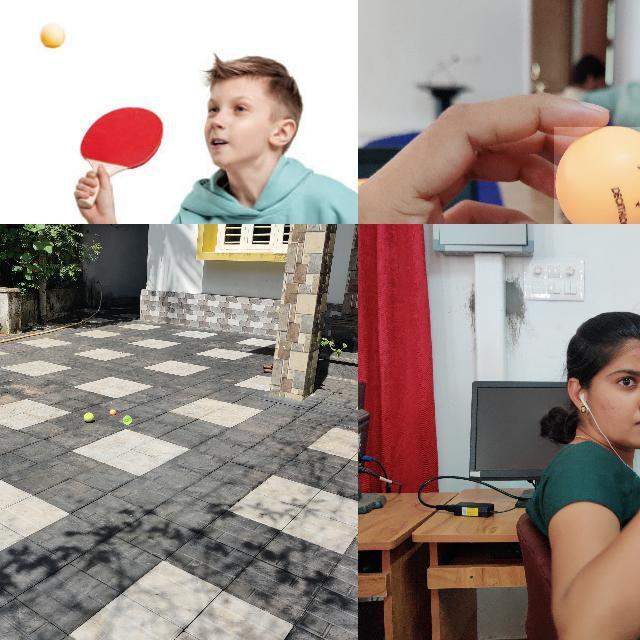ping-pong-ball: (553, 126, 639, 223), (40, 22, 64, 46), (110, 409, 114, 415)
